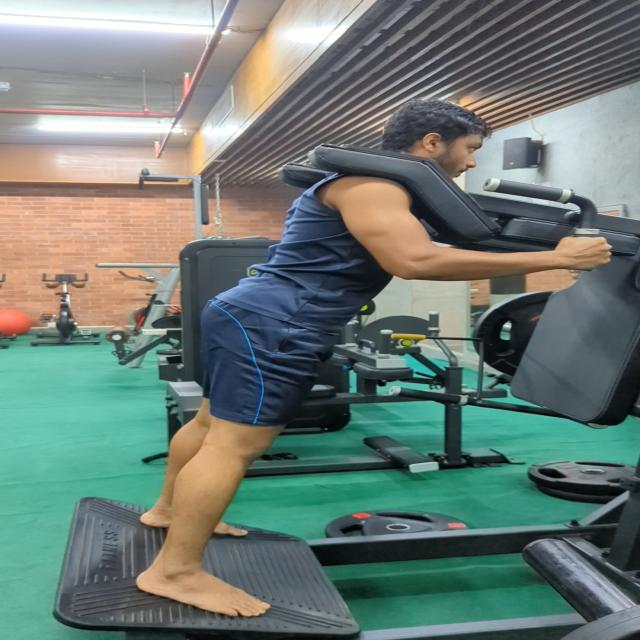Normal_SquatsWithBarbell: (0, 81, 634, 639)
